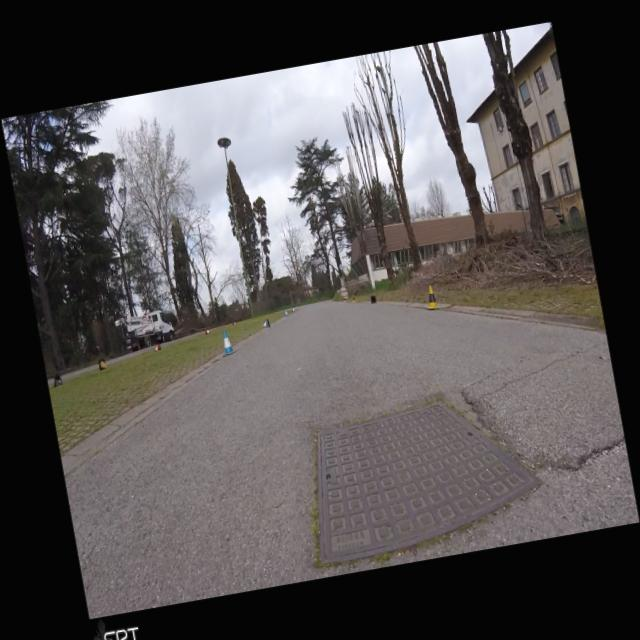blue_cone: (218, 328, 236, 356), (260, 318, 270, 328), (283, 308, 288, 316), (292, 306, 294, 312)
orange_cone: (152, 342, 160, 351), (204, 328, 210, 334), (232, 320, 236, 325)
unknown_cone: (51, 372, 63, 388), (98, 358, 108, 370), (370, 294, 376, 304)
yellow_cone: (423, 284, 439, 310), (351, 294, 356, 302)
